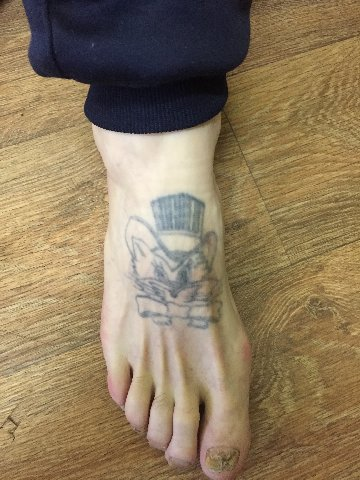tatu8_kot: (121, 186, 228, 341)
